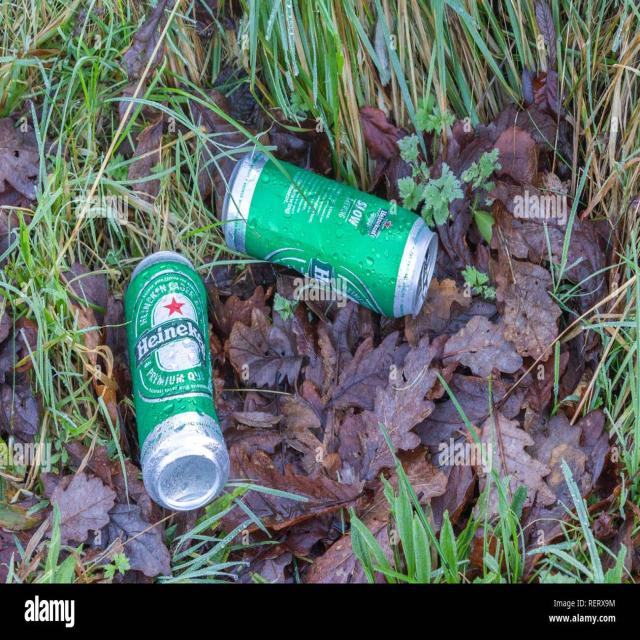can: (220, 153, 440, 320), (127, 252, 233, 512)
